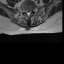CCS_stenosis: (27, 9, 29, 17)
LFS_severe_stenosis: (31, 8, 33, 13)
LLS_normal: (29, 9, 31, 15)
RFS_stenosis: (24, 8, 25, 14)
RLS_normal: (25, 9, 27, 16)
